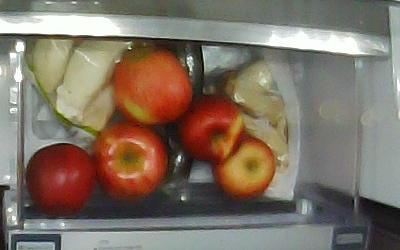apple: (110, 44, 193, 125), (91, 119, 168, 201), (24, 142, 96, 216), (177, 93, 246, 161), (210, 133, 276, 201)
